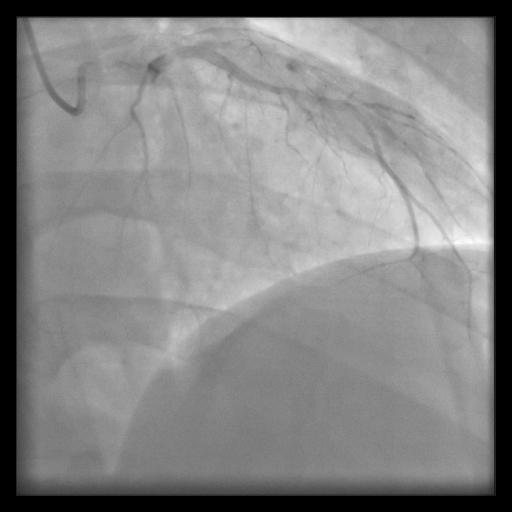Stenosis: (133, 57, 163, 86)
